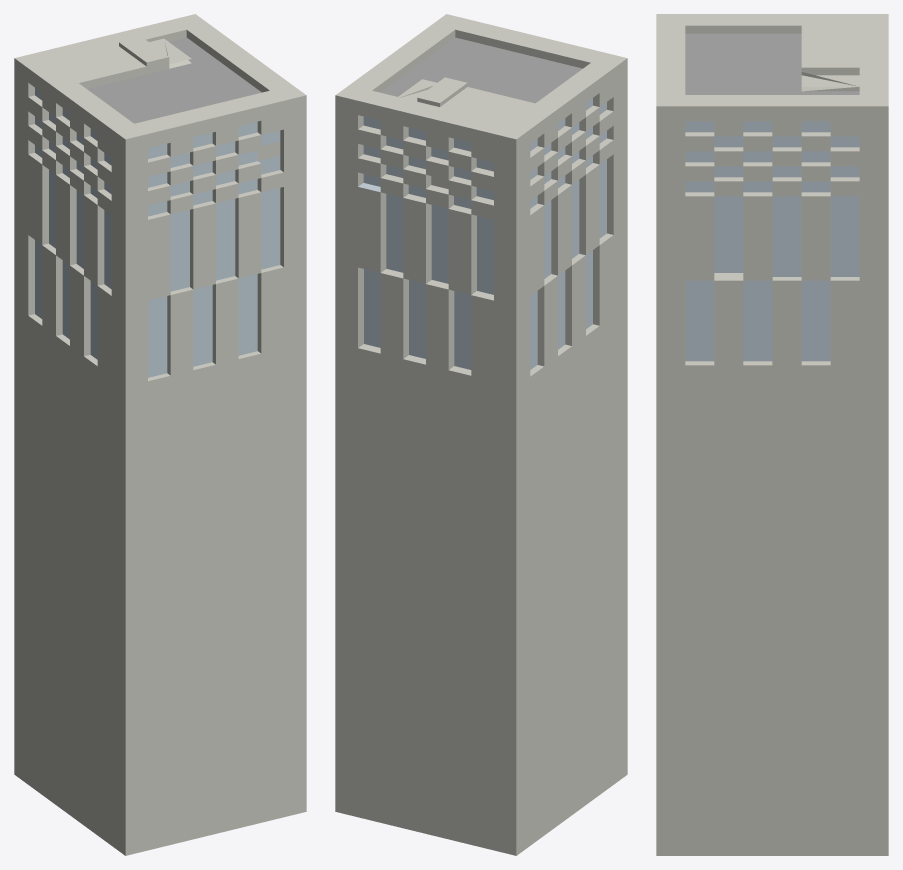
Rendered from Build03.fbx.
3 renders of one model, left to right at view 1: azimuth 30°, elevation 25°; view 2: azimuth 150°, elevation 25°; view 3: azimuth 270°, elevation 25°, orthographic. The views are drawn at different scales.
Visible parts, largest first — view 1: pCube1; view 2: pCube1; view 3: pCube1.
Boxes of the visible parts, bbox=[...] form: pCube1: bbox=[14, 14, 306, 855]; pCube1: bbox=[335, 14, 627, 855]; pCube1: bbox=[656, 14, 888, 855].
Size of the model in its own units: 4.82 by 18.34 by 5.12.
